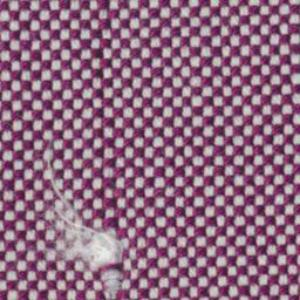fault: (41, 163, 131, 294)
